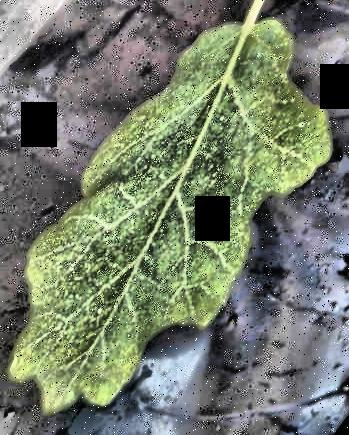HEALTHY: (0, 1, 349, 435)
